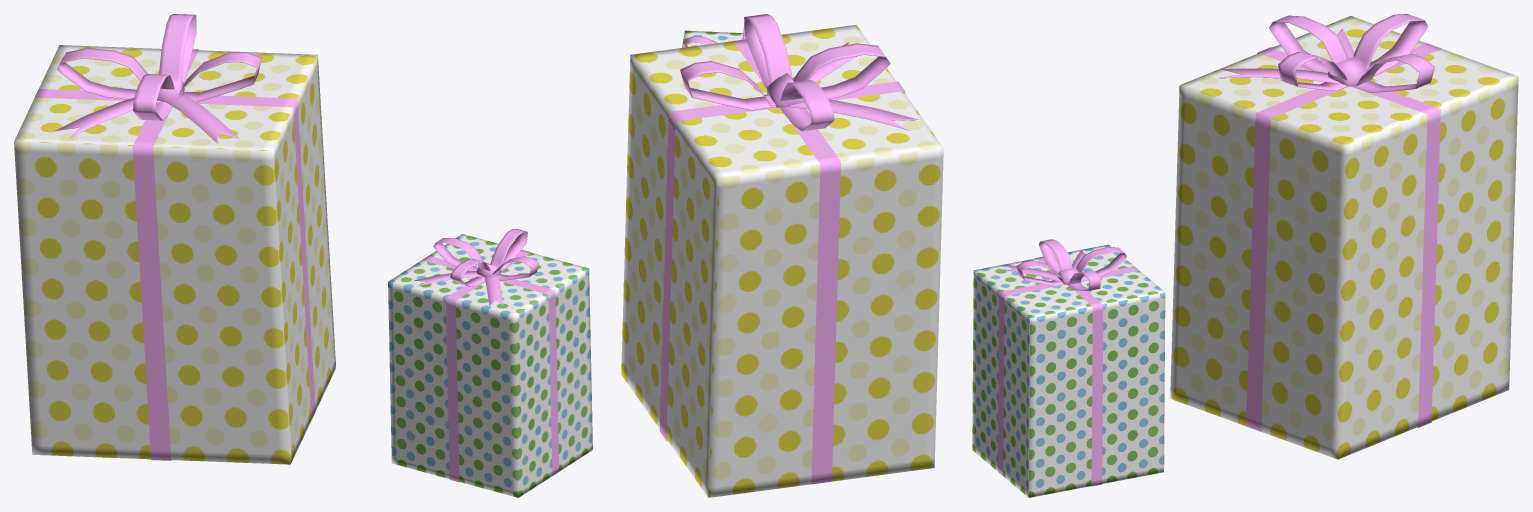
The model's file is Paket_11.glb.
The picture shows the model from 3 angles, left to right: view 1: azimuth 30°, elevation 25°; view 2: azimuth 150°, elevation 25°; view 3: azimuth 270°, elevation 25°; orthographic projection. The views are drawn at different scales.
Parts seen in each view (by area): view 1: Paket.011; view 2: Paket.011; view 3: Paket.011.
Boxes of the visible parts, box(x1,y1,x2,y2) form: Paket.011: box(14, 14, 592, 497); Paket.011: box(621, 14, 943, 497); Paket.011: box(972, 14, 1518, 497).
Size of the model in its own units: 1.32 by 1.12 by 1.53.
Materials: 3 (2 with a texture image).
